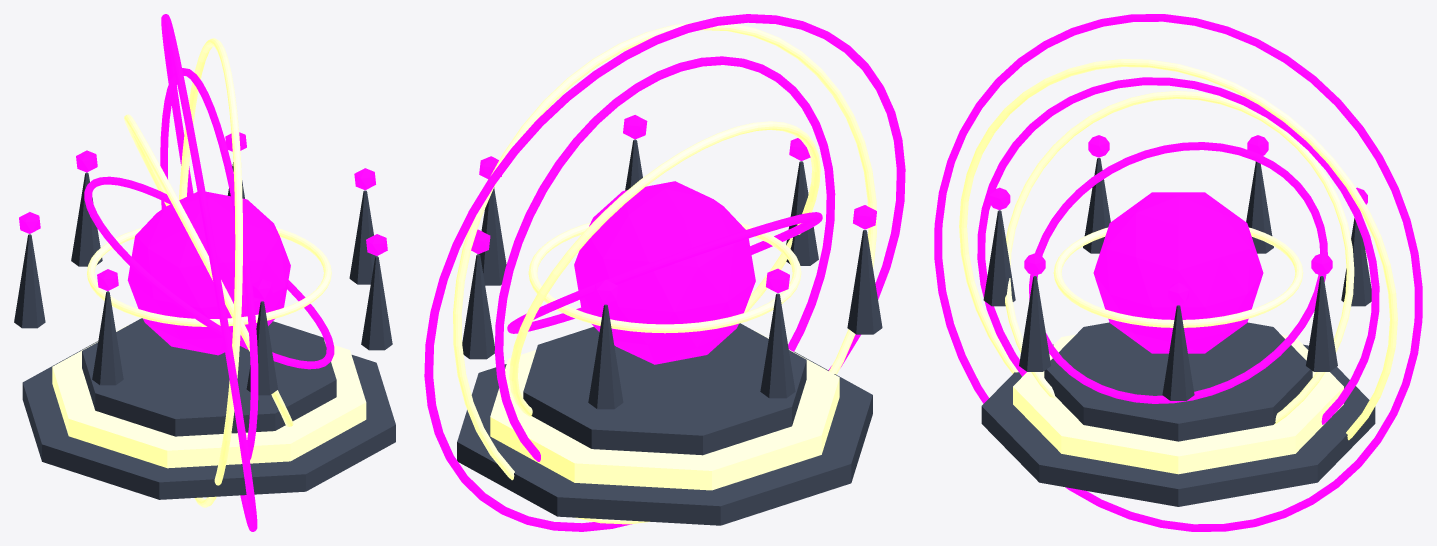
The model's file is gpu-blender-v54.glb.
The picture shows the model from 3 angles, left to right: view 1: azimuth 30°, elevation 25°; view 2: azimuth 150°, elevation 25°; view 3: azimuth 270°, elevation 25°; orthographic projection. The views are drawn at different scales.
Visible parts, largest first — view 1: Cylinder.002, Cylinder, SovereignCore_nealsvision, Cylinder.001, Torus.005, Torus.004, Torus.003, Torus.001, Torus, Torus.002, Cone.003, Cone.006 (+4 smaller); view 2: Cylinder.002, SovereignCore_nealsvision, Cylinder, Cylinder.001, Torus.005, Torus.003, Torus.004, Torus.002, Torus.001, Torus, Cone.002, Cone.003 (+4 smaller); view 3: SovereignCore_nealsvision, Cylinder.002, Cylinder, Cylinder.001, Torus.005, Torus.004, Torus.003, Torus.002, Torus.001, Torus, Cone, Cone.001 (+5 smaller).
Part boxes in pixels (x1,y1,x2,y2): Cylinder.002: (82,318,336,436); Cylinder: (22,341,395,499); SovereignCore_nealsvision: (127,191,290,355); Cylinder.001: (52,325,366,468); Torus.005: (161,14,257,531); Torus.004: (179,38,242,507); Torus.003: (160,68,258,459); Torus.001: (84,176,334,369); Torus: (87,227,331,326); Torus.002: (124,114,293,426); Cone.003: (14,234,45,328); Cone.006: (361,256,392,350); Cylinder.002: (523,323,806,455); SovereignCore_nealsvision: (574,181,755,364); Cylinder: (457,351,872,525); Cylinder.001: (490,330,839,490); Torus.005: (424,14,905,531); Torus.003: (494,56,835,461); Torus.004: (453,22,876,524); Torus.002: (509,121,820,416); Torus.001: (507,212,822,333); Torus: (528,222,801,333); Cone.002: (588,304,623,409); Cone.003: (760,293,795,398); SovereignCore_nealsvision: (1093,192,1263,353); Cylinder.002: (1044,322,1312,441); Cylinder: (981,344,1375,506); Cylinder.001: (1013,334,1343,474); Torus.005: (934,14,1422,531); Torus.004: (959,59,1397,440); Torus.003: (977,77,1379,424); Torus.002: (1005,91,1354,423); Torus.001: (1029,142,1327,403); Torus: (1053,227,1303,327); Cone: (1162,305,1194,400); Cone.001: (1306,276,1337,371).
Bounding box in the file's own units: 4.41 × 5.93 × 5.46.
